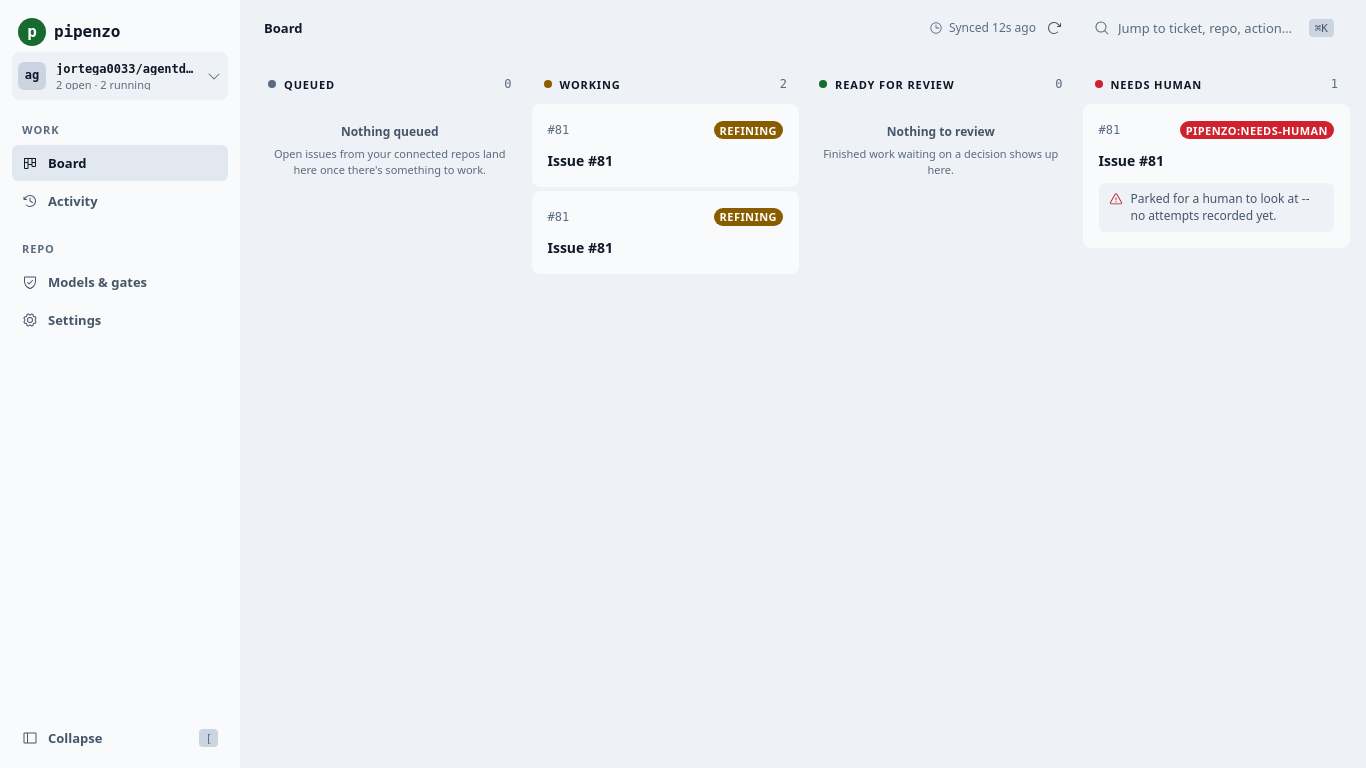
PipenzoAppShell › the workspace switcher › renders the first connected repo active, with real per-repo open/running/needs-you counts
This screenshot has width=1366, height=768.
Note: The menu lists every connected repo, not only the active one.
Click the button "ag jortega0033/agentdock 2 open · 2 running" at coordinates (120, 76), box x1=12 y1=52 x2=228 y2=100
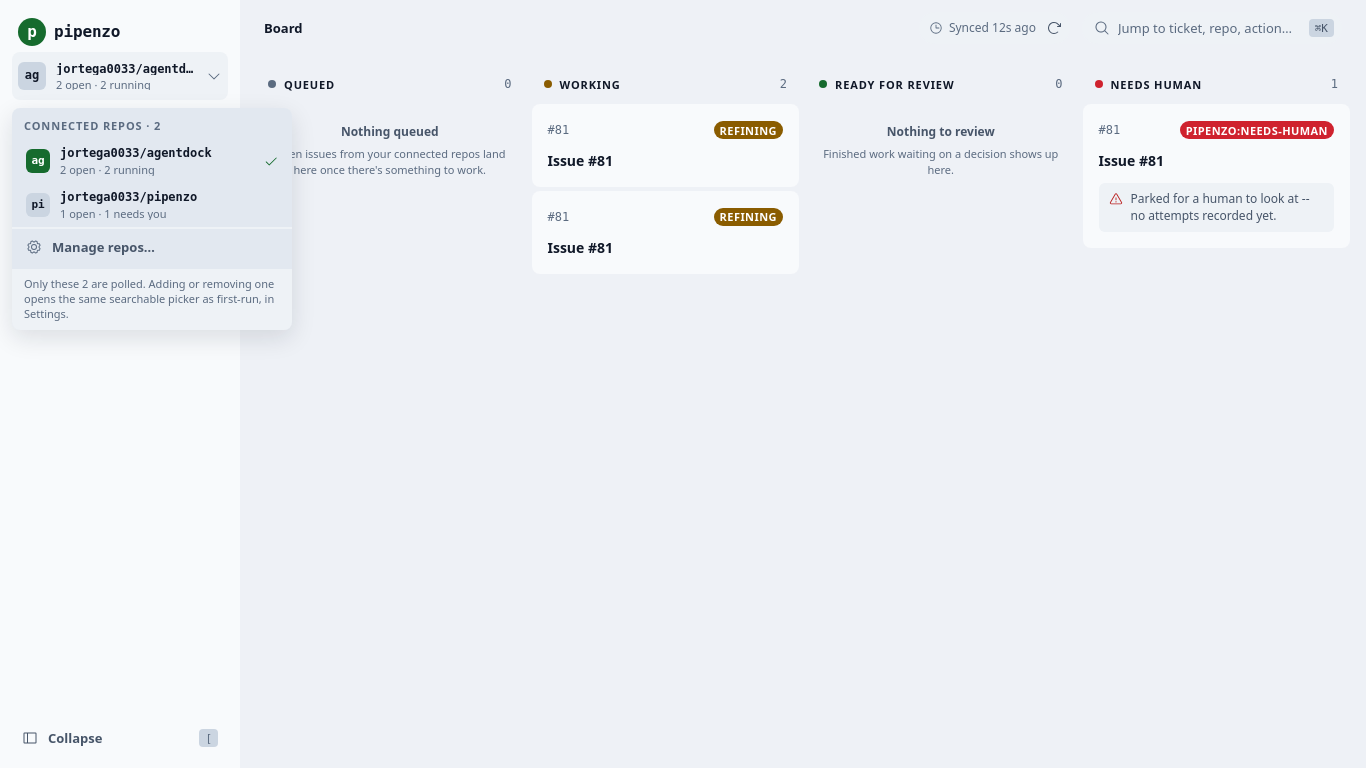
Expected: the text "1 open · 1 needs you" is shown, x1=60 y1=206 x2=167 y2=221
